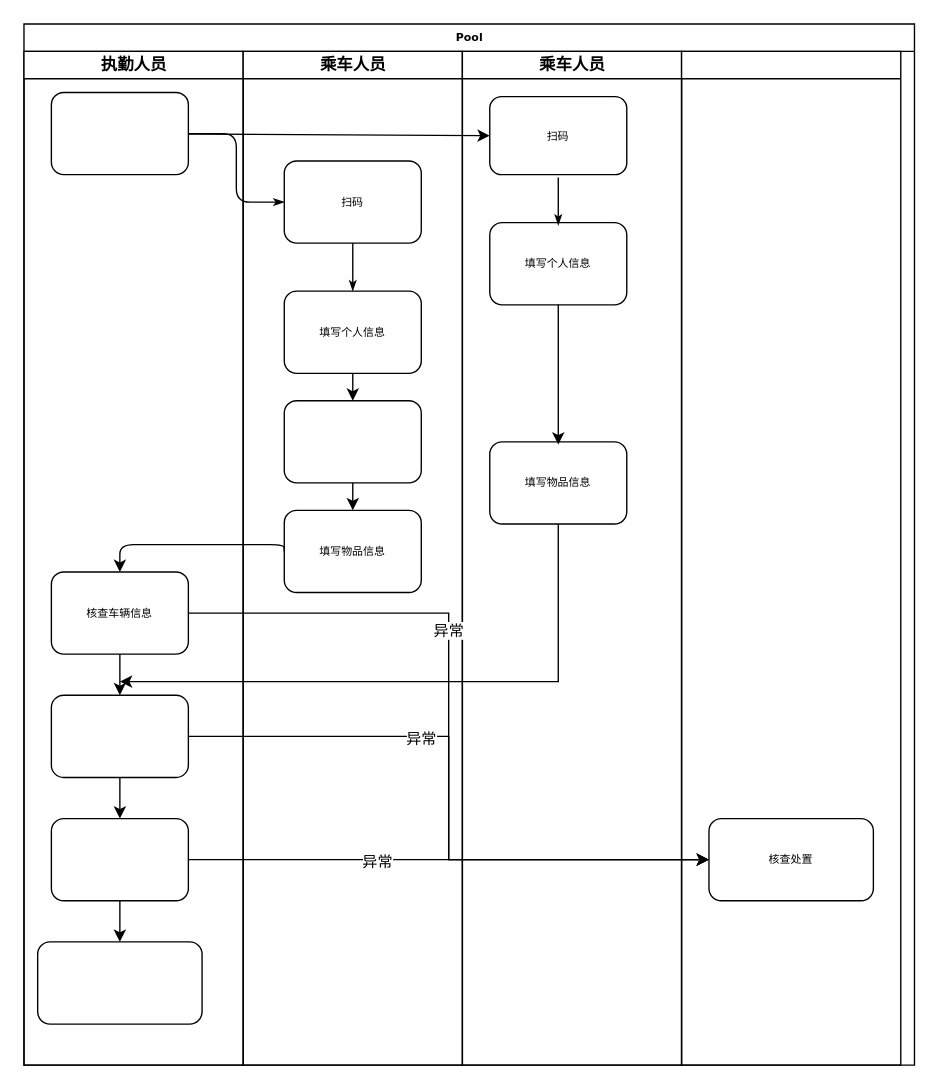
Image size: 938x1089. Some labels were removed from this diagram. Each missing label, with the box of its shape:
出示卡口二维码: (50, 91, 188, 175)
填写车辆信息: (283, 399, 421, 483)
处置点: (680, 50, 901, 1065)
放行: (36, 941, 202, 1024)
核查人员信息: (50, 694, 188, 777)
核查物品信息: (50, 817, 188, 901)
